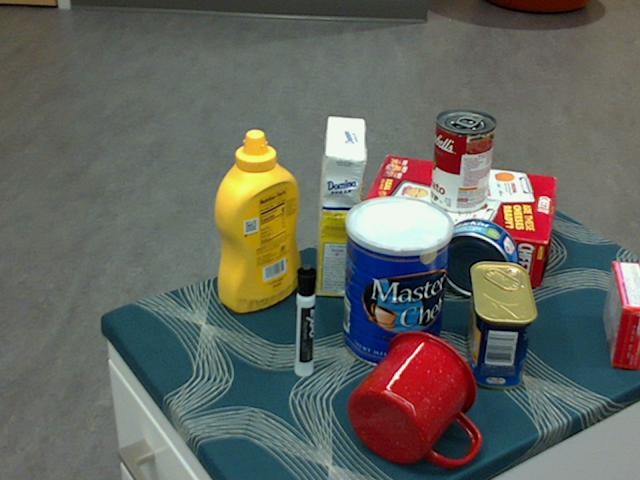cracker_box: (356, 157, 553, 285)
gelatin_box: (601, 262, 639, 370)
large_marker: (292, 263, 315, 378)
master_chef_can: (343, 195, 455, 370)
mug: (348, 330, 478, 467)
mustard_bottle: (213, 129, 301, 313)
potted_meat_can: (464, 262, 539, 389)
sugar_box: (315, 117, 365, 299)
tomato_soup_can: (431, 110, 496, 214)
tuna_fish_can: (437, 217, 519, 298)
